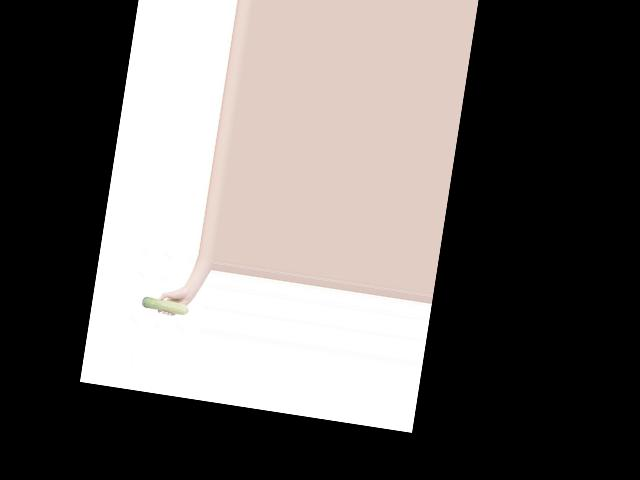cucumber: (140, 295, 190, 315)
